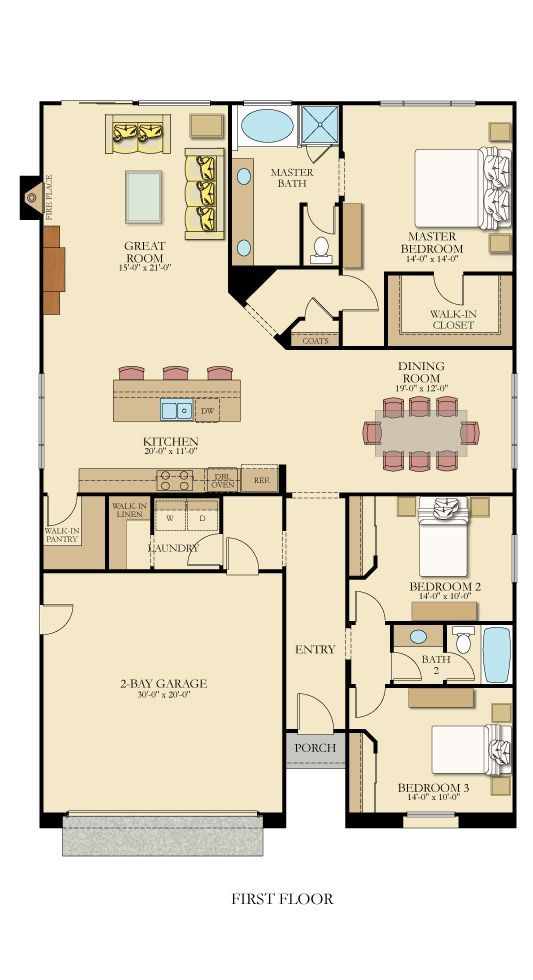door: (291, 688, 338, 727), (344, 273, 380, 315), (182, 531, 222, 568), (44, 602, 81, 639), (45, 495, 82, 532), (351, 587, 392, 619), (223, 536, 264, 568), (430, 276, 467, 310), (350, 688, 387, 720), (394, 650, 426, 682), (448, 652, 480, 684), (305, 207, 337, 234)
room: (339, 100, 517, 275), (344, 684, 516, 830), (345, 491, 518, 625), (228, 101, 343, 268)
window: (69, 809, 259, 818), (402, 813, 459, 829), (510, 373, 518, 468), (38, 372, 45, 469), (379, 100, 476, 106), (139, 100, 209, 107), (509, 536, 518, 583), (243, 100, 291, 105)
